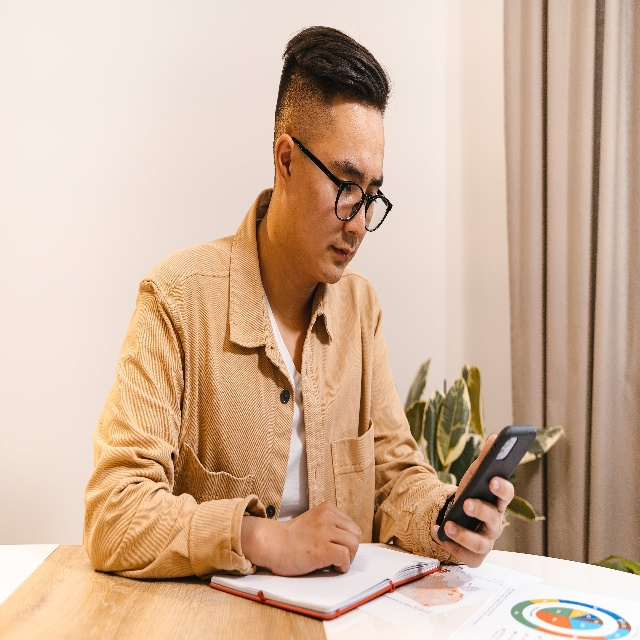Sin_guantes: (430, 430, 515, 575), (270, 498, 362, 580)
